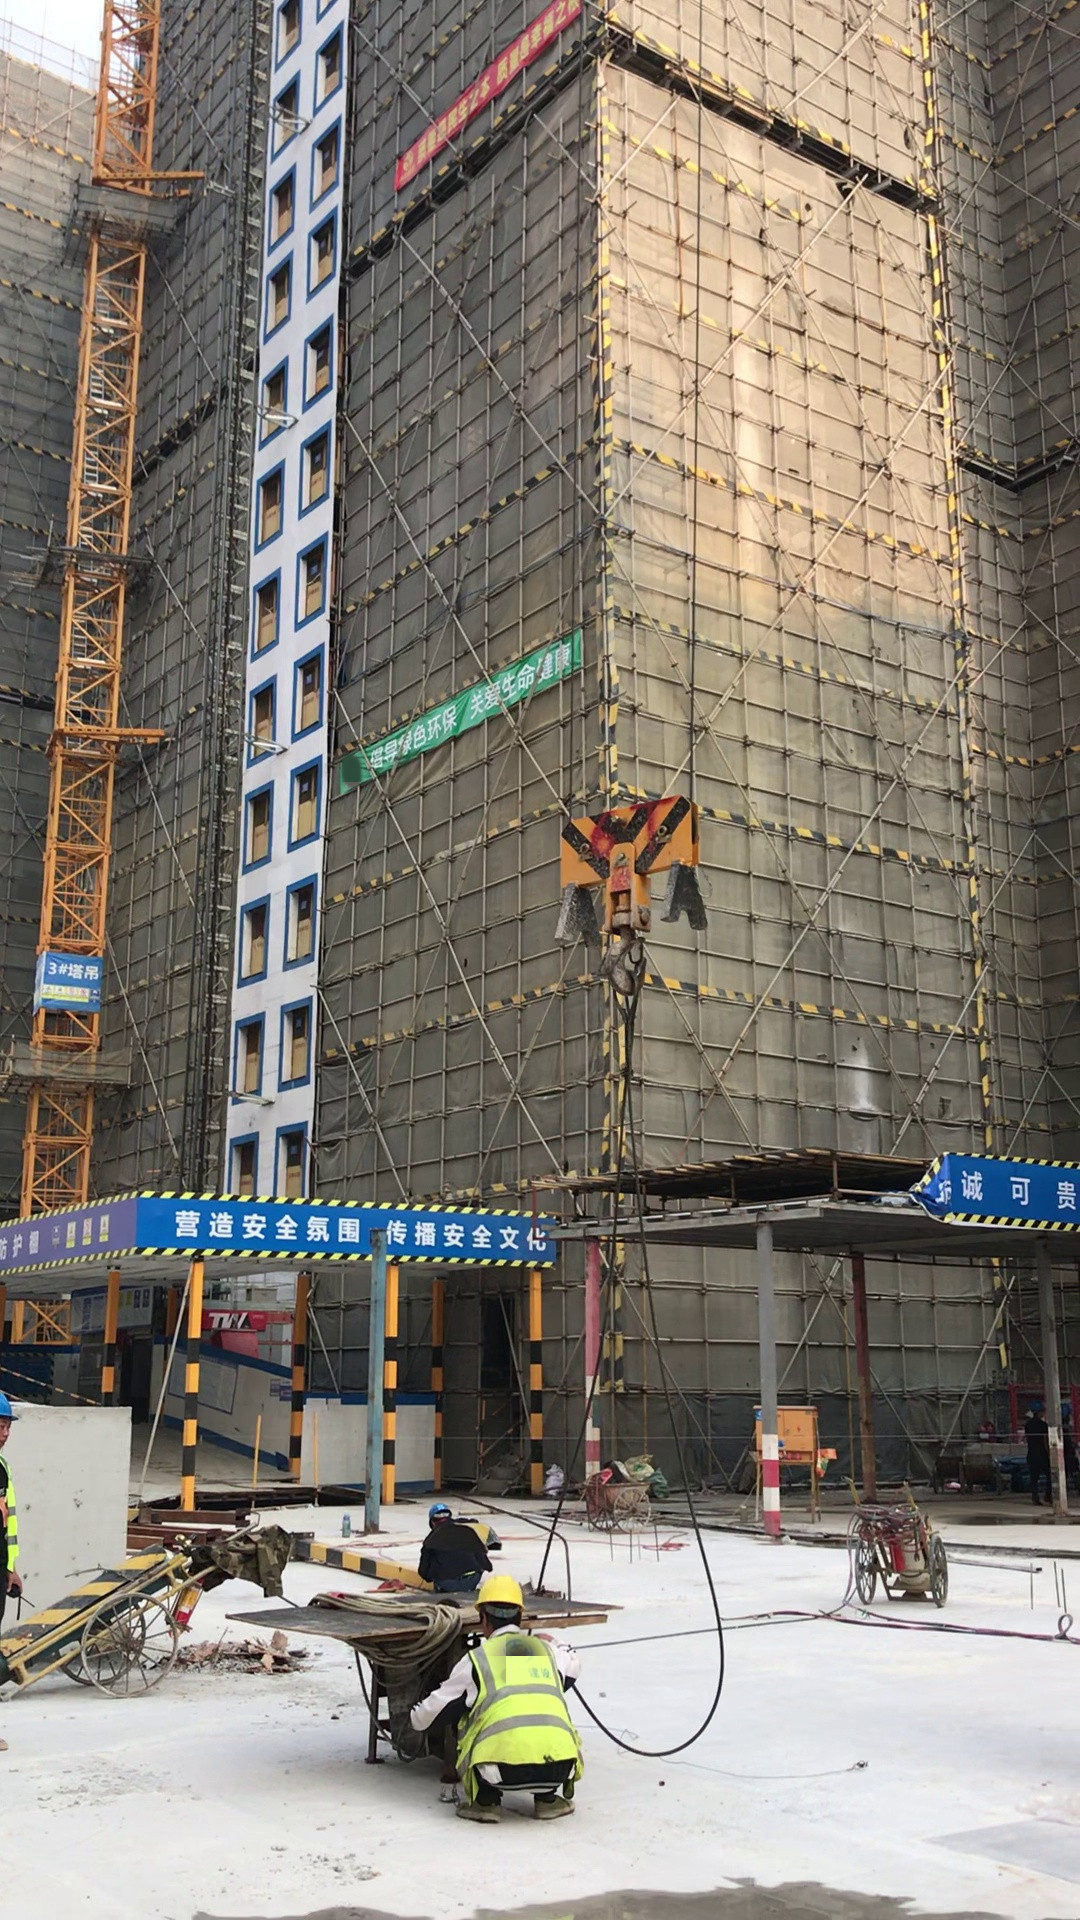ebox: (756, 1402, 823, 1466)
handcart: (557, 1478, 652, 1529)
helmet: (478, 1575, 525, 1607), (1, 1387, 25, 1421), (426, 1500, 453, 1524)
hook: (541, 780, 724, 970)
person: (408, 1551, 612, 1837), (1, 1382, 65, 1680), (400, 1494, 506, 1598)
slogan: (359, 613, 595, 792), (139, 1170, 564, 1263), (384, 5, 595, 180), (1, 1176, 166, 1274), (928, 1145, 1080, 1218)
vest: (460, 1630, 587, 1777), (1, 1458, 32, 1609)
